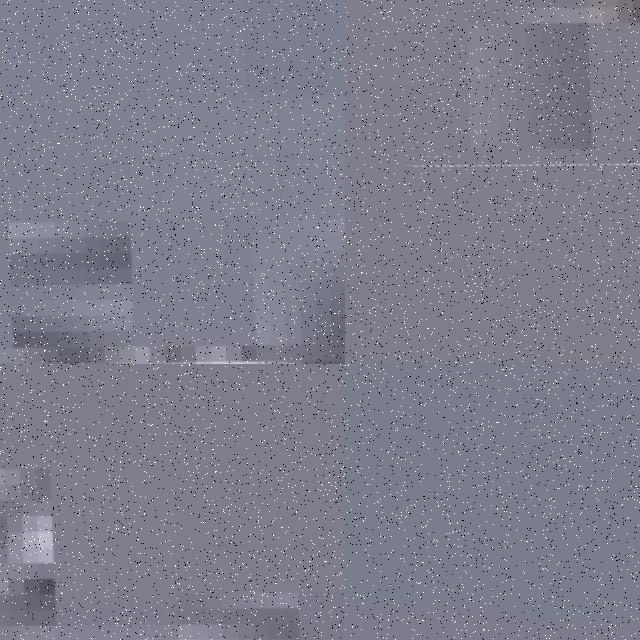drone: (0, 0, 345, 364), (0, 364, 345, 640), (345, 0, 640, 191)
